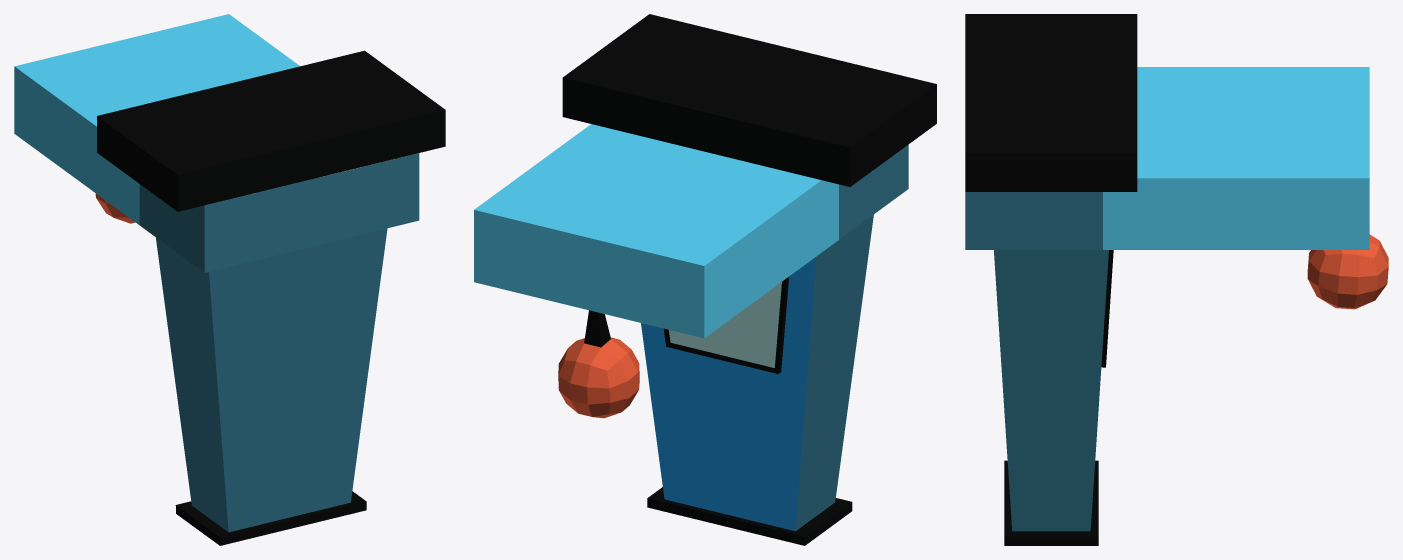
Rendered from BoksTorbasi.fbx.
The picture shows the model from 3 angles, left to right: view 1: azimuth 30°, elevation 25°; view 2: azimuth 150°, elevation 25°; view 3: azimuth 270°, elevation 25°; orthographic projection. The views are drawn at different scales.
Visible parts, largest first — view 1: Roundcube; view 2: Roundcube, Roundcube.001; view 3: Roundcube, Roundcube.001.
Boxes of the visible parts, <box> form: Roundcube: <box>14,14,445,545</box>; Roundcube: <box>474,14,936,545</box>; Roundcube.001: <box>558,310,639,418</box>; Roundcube: <box>965,14,1369,545</box>; Roundcube.001: <box>1307,234,1388,309</box>.
Size of the model in its own units: 578 by 824 by 745.
